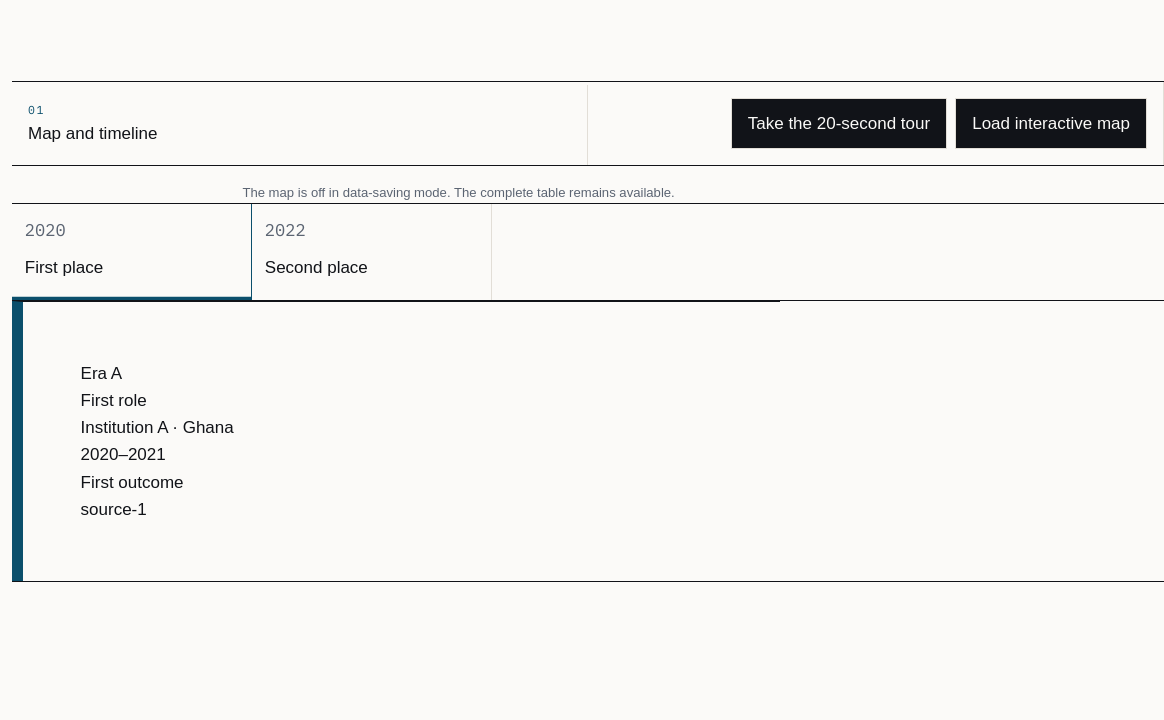
it: AtlasExplorer › starts the optional tour once and records the no-replay choice
Click the button "Take the 20-second tour" at (839, 123), box [731,98,947,149]
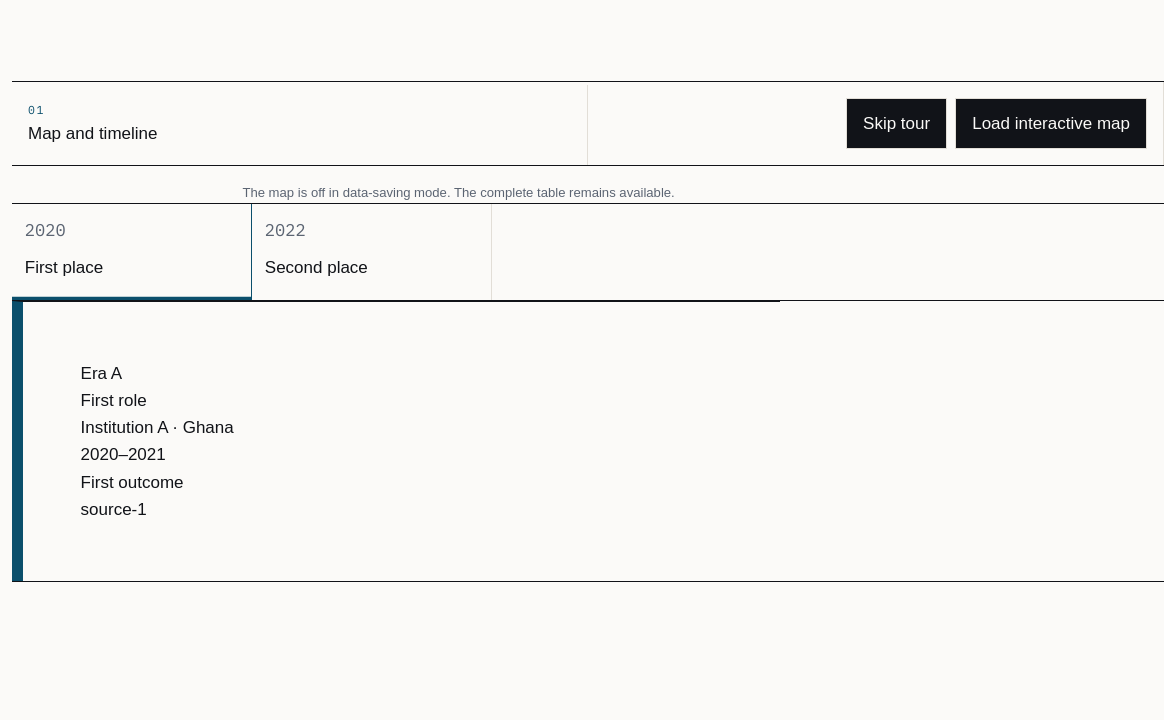
Result: the button "Skip tour" is shown
Click the button "Skip tour" at (897, 123), box [846,98,947,149]
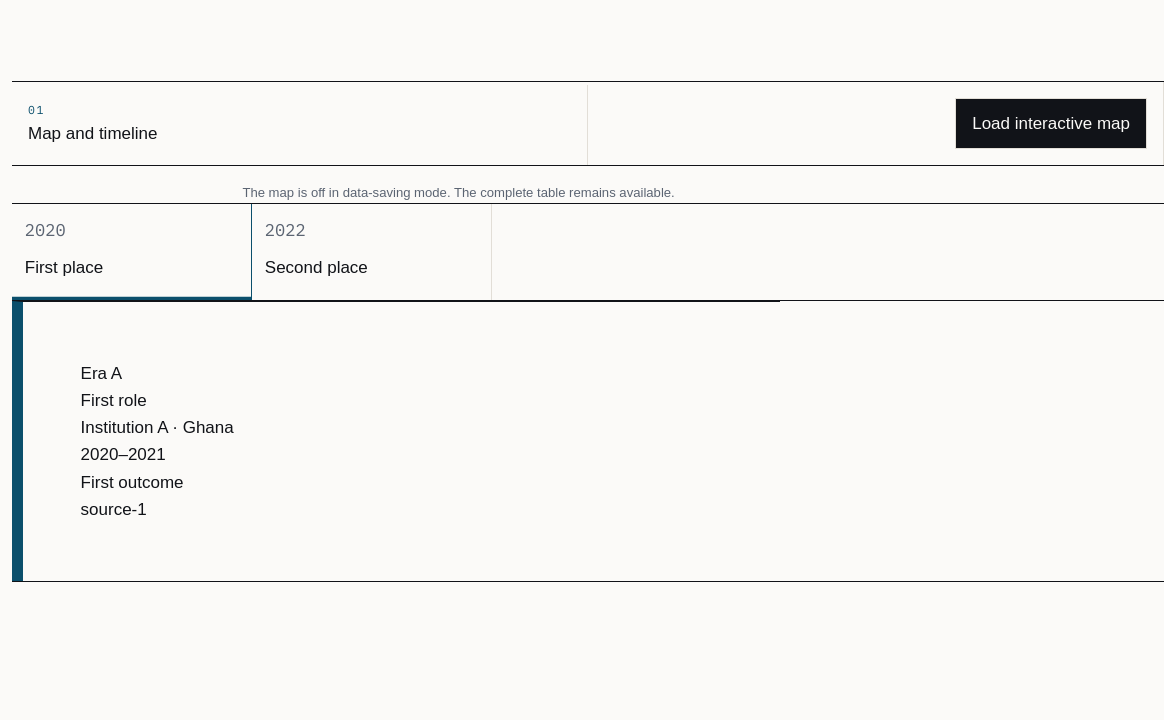
Result: the button "Skip tour" is gone
